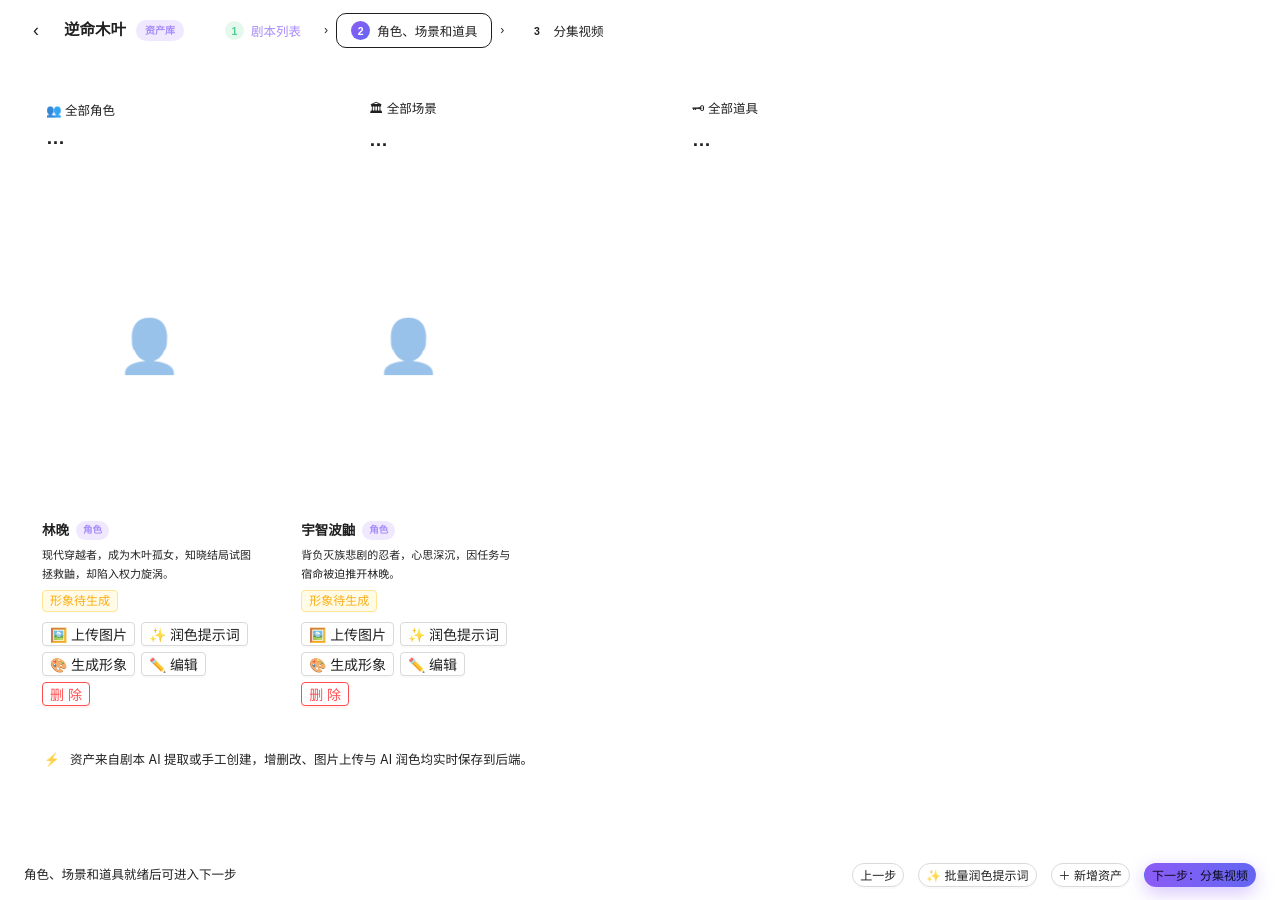
it: AssetsPage 资产工坊 › 按类型切换筛选：角色 → 场景
Expected: the text "林晚" is shown, left=42, top=522, right=69, bottom=538
Click the button "🏛 全部场景 …": point(412, 109) left=351, top=83, right=662, bottom=166
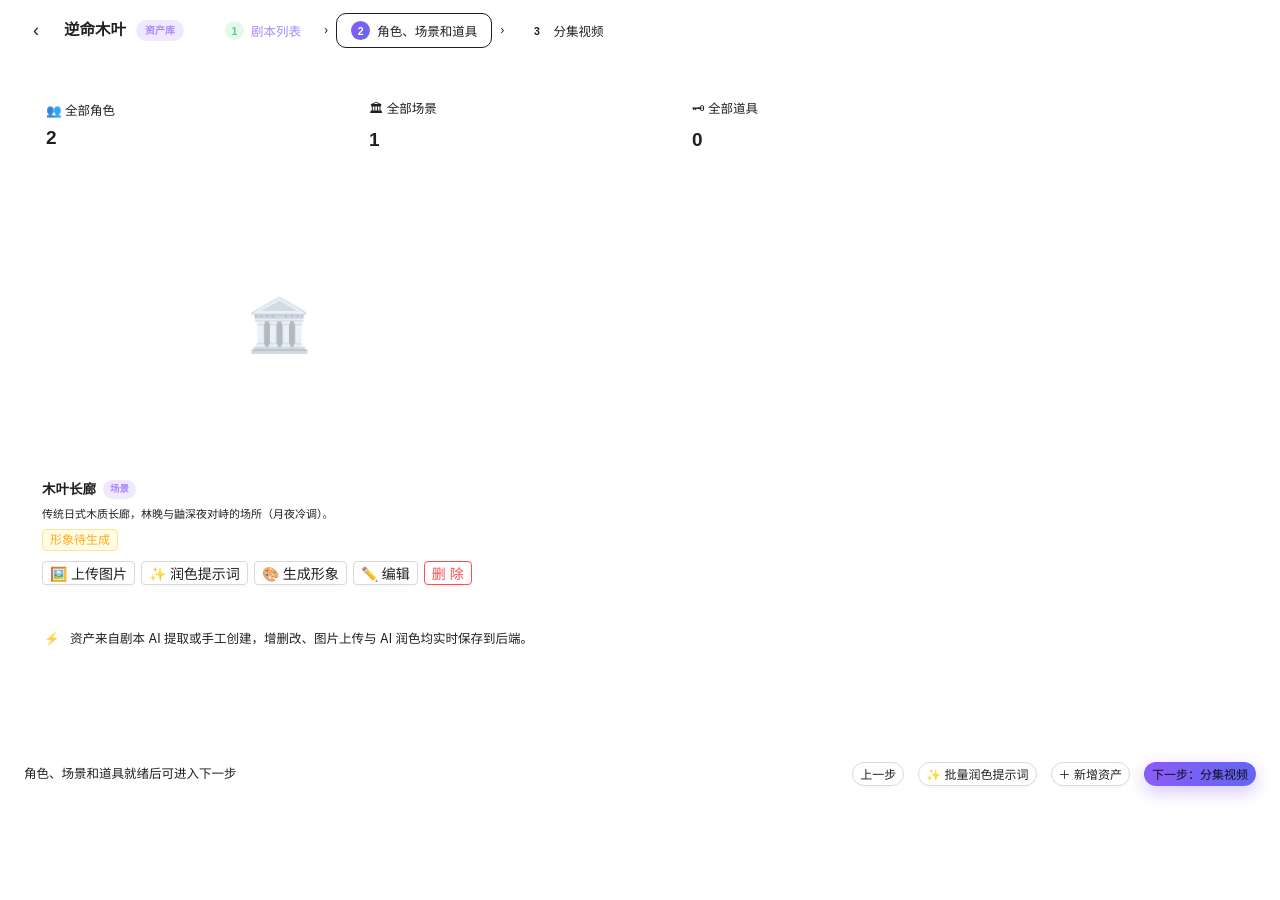
Expected: the text "木叶长廊" is shown, left=42, top=481, right=96, bottom=497
